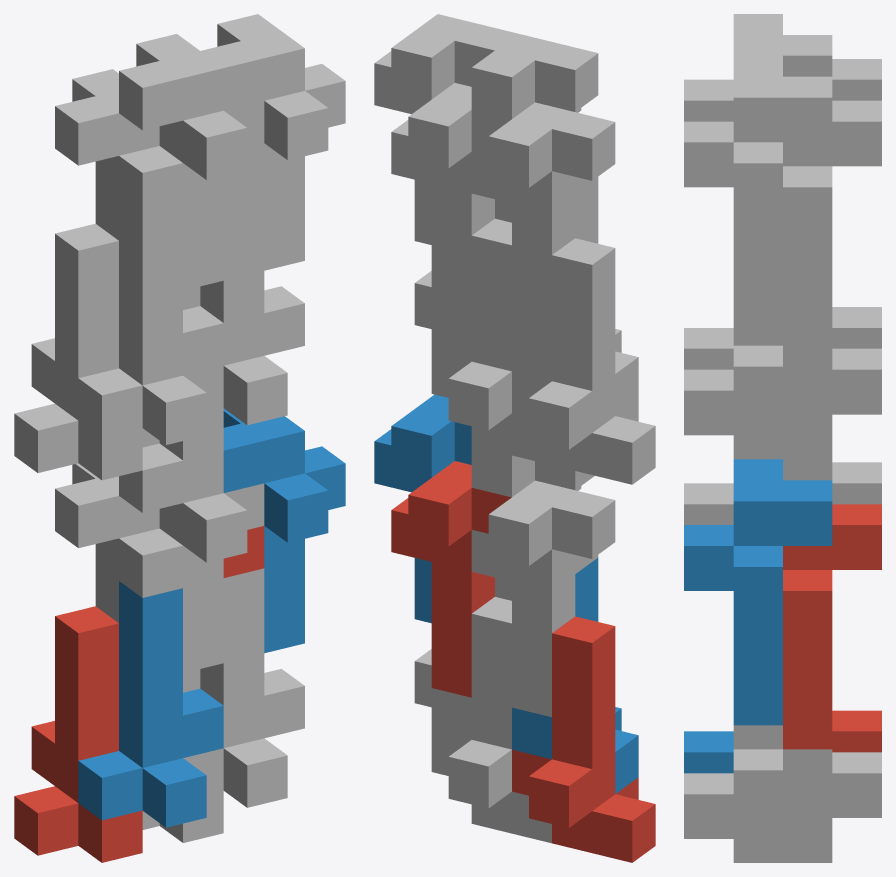
File: tiling.obj
The picture shows the model from 3 angles, left to right: view 1: azimuth 30°, elevation 25°; view 2: azimuth 150°, elevation 25°; view 3: azimuth 270°, elevation 25°; orthographic projection. The views are drawn at different scales.
Visible parts, largest first — view 1: copy_1_domain_2, copy_1_domain_4, copy_1_domain_1, copy_1_domain_3, copy_2_domain_4, copy_2_domain_8, copy_2_domain_6, copy_1_domain_6, copy_1_domain_8, copy_2_domain_2, copy_2_domain_3, copy_2_domain_1 (+4 smaller); view 2: copy_1_domain_1, copy_1_domain_3, copy_2_domain_3, copy_2_domain_1, copy_2_domain_5, copy_2_domain_7, copy_1_domain_5, copy_1_domain_7, copy_2_domain_8, copy_2_domain_4, copy_2_domain_6, copy_1_domain_2 (+4 smaller); view 3: copy_2_domain_8, copy_2_domain_6, copy_2_domain_7, copy_2_domain_5, copy_1_domain_8, copy_1_domain_6, copy_1_domain_7, copy_1_domain_5, copy_2_domain_4, copy_2_domain_2, copy_1_domain_1, copy_1_domain_2 (+4 smaller).
Part boxes in pixels (x1,y1,x2,y2): copy_1_domain_2: [78, 581, 223, 827]; copy_1_domain_4: [78, 198, 223, 444]; copy_1_domain_1: [14, 606, 142, 862]; copy_1_domain_3: [14, 223, 142, 480]; copy_2_domain_4: [119, 34, 264, 290]; copy_2_domain_8: [201, 14, 345, 270]; copy_2_domain_6: [223, 408, 345, 653]; copy_1_domain_6: [183, 568, 304, 807]; copy_1_domain_8: [183, 186, 304, 425]; copy_2_domain_2: [119, 443, 264, 672]; copy_2_domain_3: [55, 69, 182, 240]; copy_2_domain_1: [55, 463, 182, 622]; copy_1_domain_1: [512, 616, 655, 862]; copy_1_domain_3: [512, 238, 655, 484]; copy_2_domain_3: [471, 102, 615, 338]; copy_2_domain_1: [471, 480, 615, 717]; copy_2_domain_5: [391, 461, 511, 697]; copy_2_domain_7: [391, 83, 511, 319]; copy_1_domain_5: [431, 597, 551, 843]; copy_1_domain_7: [431, 218, 551, 464]; copy_2_domain_8: [374, 14, 517, 244]; copy_2_domain_4: [471, 33, 598, 222]; copy_2_domain_6: [374, 394, 471, 623]; copy_1_domain_2: [512, 558, 638, 793]; copy_2_domain_8: [684, 55, 832, 321]; copy_2_domain_6: [684, 459, 832, 725]; copy_2_domain_7: [783, 100, 881, 345]; copy_2_domain_5: [783, 504, 881, 749]; copy_1_domain_8: [684, 322, 832, 435]; copy_1_domain_6: [684, 725, 832, 838]; copy_1_domain_7: [733, 348, 881, 459]; copy_1_domain_5: [733, 752, 881, 862]; copy_2_domain_4: [684, 14, 832, 121]; copy_2_domain_2: [684, 459, 832, 524]; copy_1_domain_1: [832, 710, 881, 752]; copy_1_domain_2: [684, 731, 733, 773].
Size of the model in its own units: 7 by 18 by 4.
